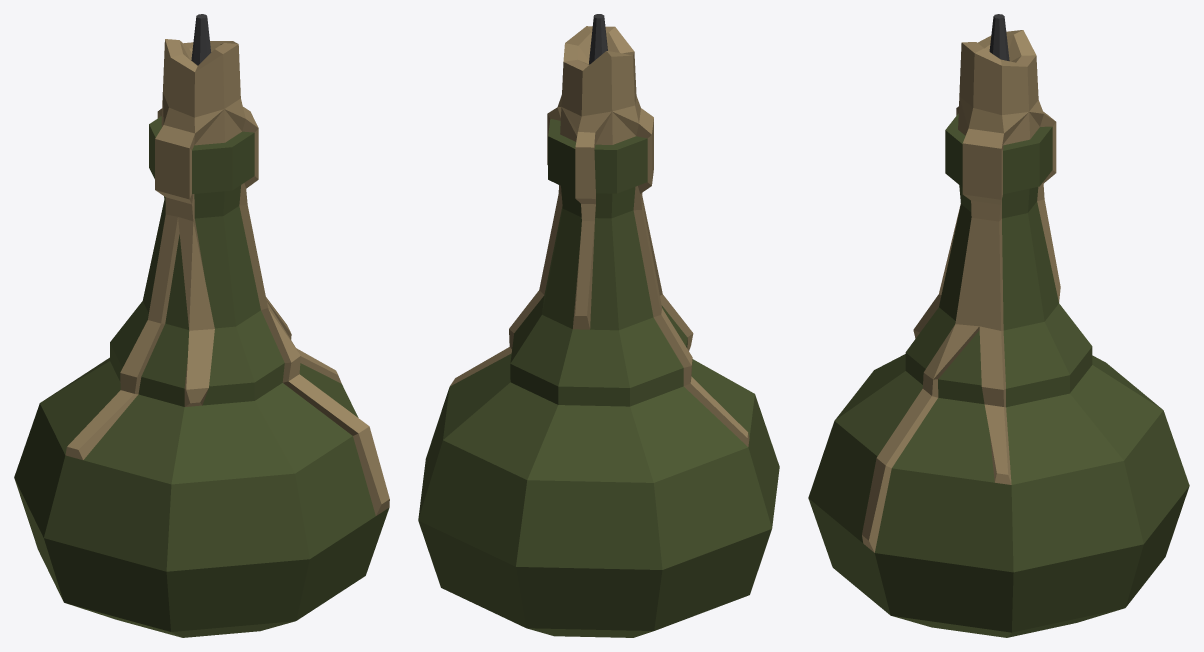
The model's file is SM_Item_Bottle_Candle_02.glb.
3 renders of one model, left to right at view 1: azimuth 30°, elevation 25°; view 2: azimuth 150°, elevation 25°; view 3: azimuth 270°, elevation 25°, orthographic.
Visible parts, largest first — view 1: SM_Item_Bottle_Candle_02; view 2: SM_Item_Bottle_Candle_02; view 3: SM_Item_Bottle_Candle_02.
Boxes of the visible parts, x1,y1,x2,y2 form: SM_Item_Bottle_Candle_02: (14, 14, 389, 637); SM_Item_Bottle_Candle_02: (418, 14, 779, 637); SM_Item_Bottle_Candle_02: (808, 14, 1189, 637).
Bounding box in the file's own units: 0.00199 × 0.00333 × 0.00199.
